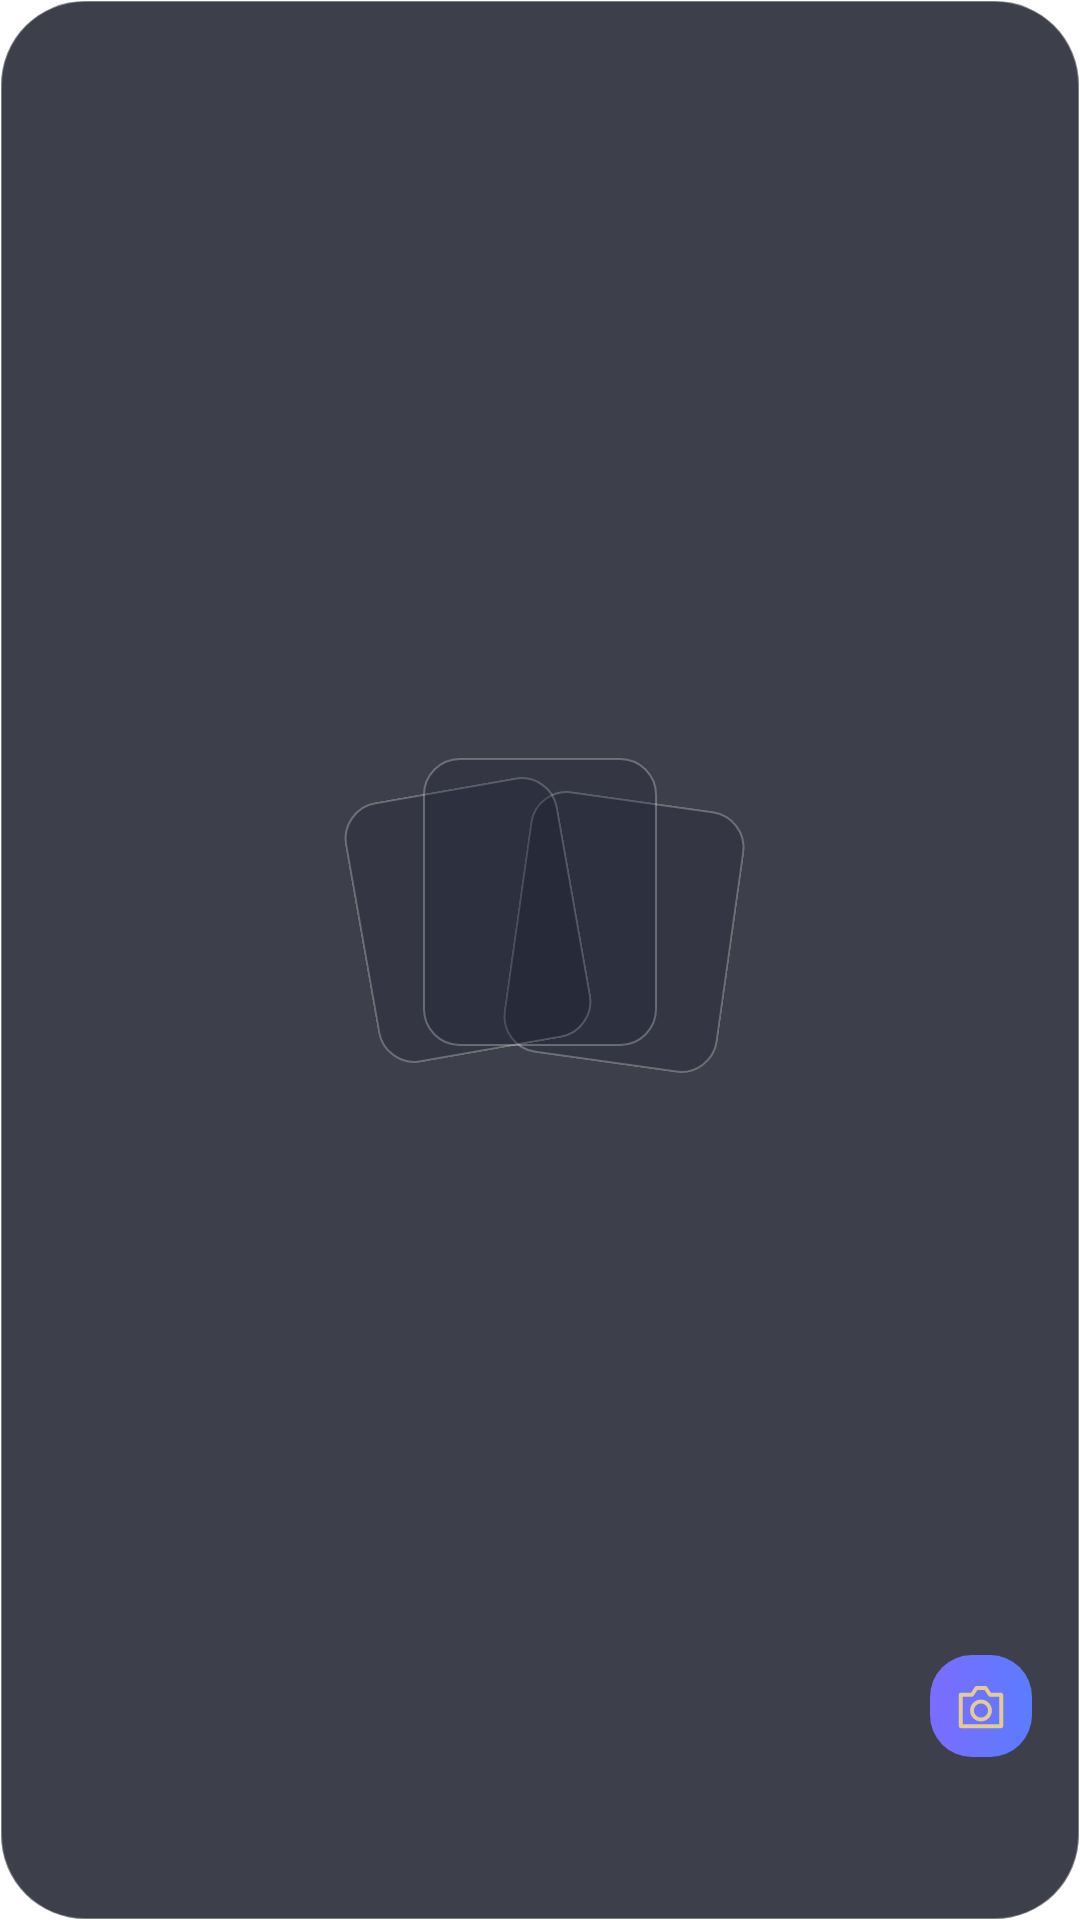

Where to tap for icons on this 1080px x 1920px app screen, as (x=x, y=y):
Take photo: (x=981, y=1706)
